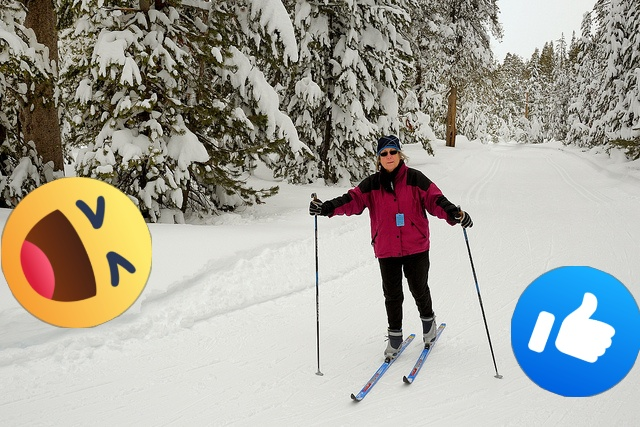haha: (1, 177, 152, 328)
like: (511, 266, 640, 397)
